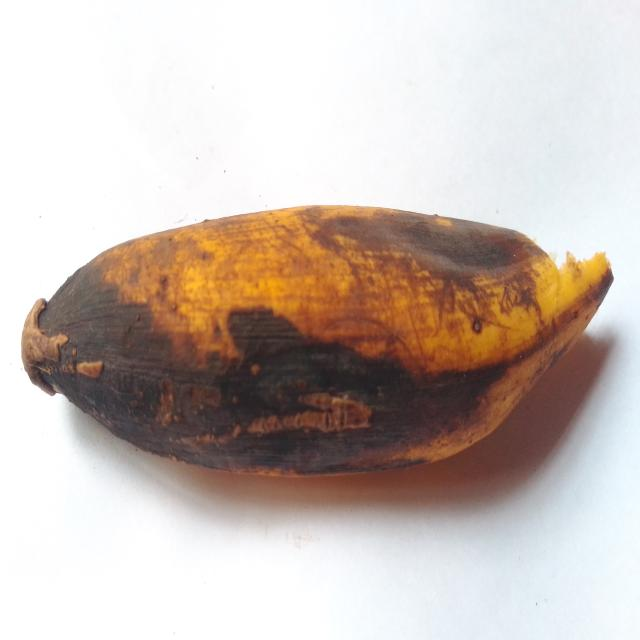banana: (23, 207, 612, 473)
